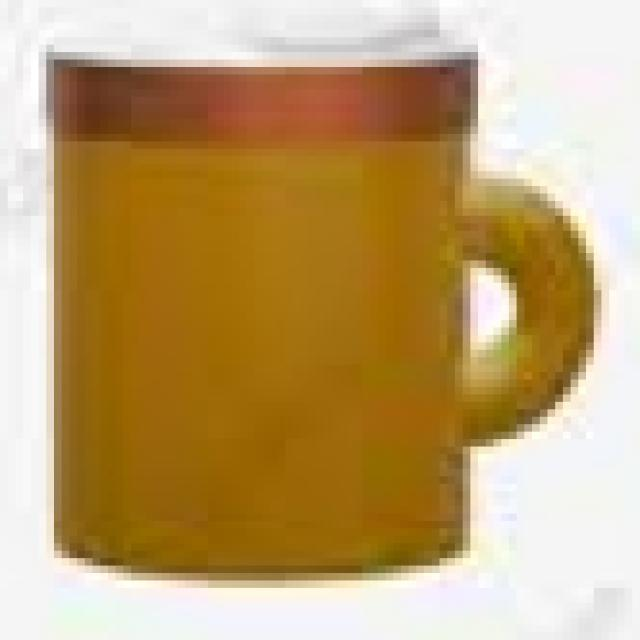taza: (42, 39, 597, 582)
